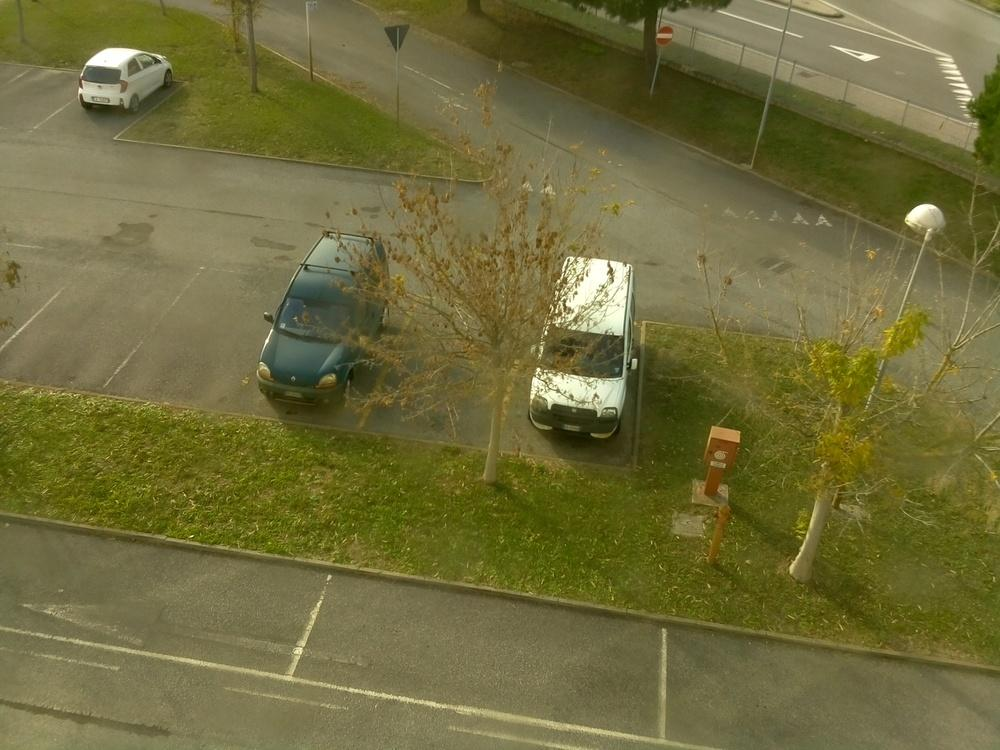empty: (251, 245, 405, 415), (71, 49, 176, 117)
occupied: (33, 534, 249, 668), (366, 597, 595, 700), (670, 647, 893, 750), (153, 280, 249, 412), (42, 274, 138, 397), (18, 60, 70, 124)
